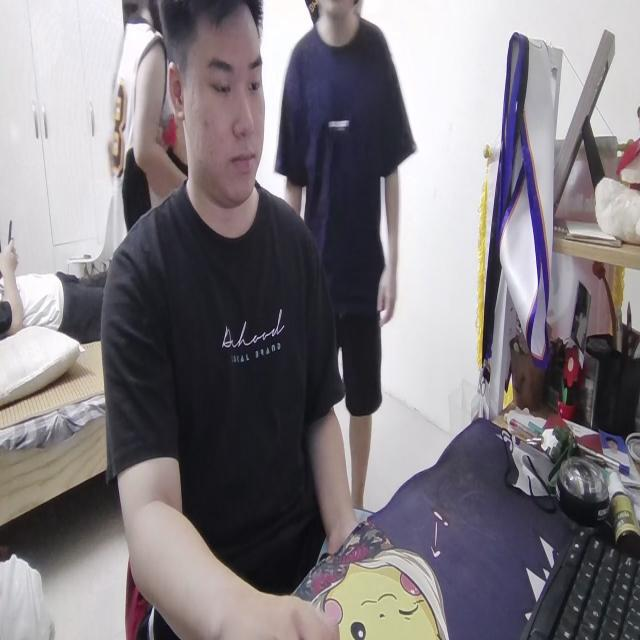extra_person: (278, 0, 408, 494), (109, 0, 178, 223)
student: (98, 0, 356, 639)
